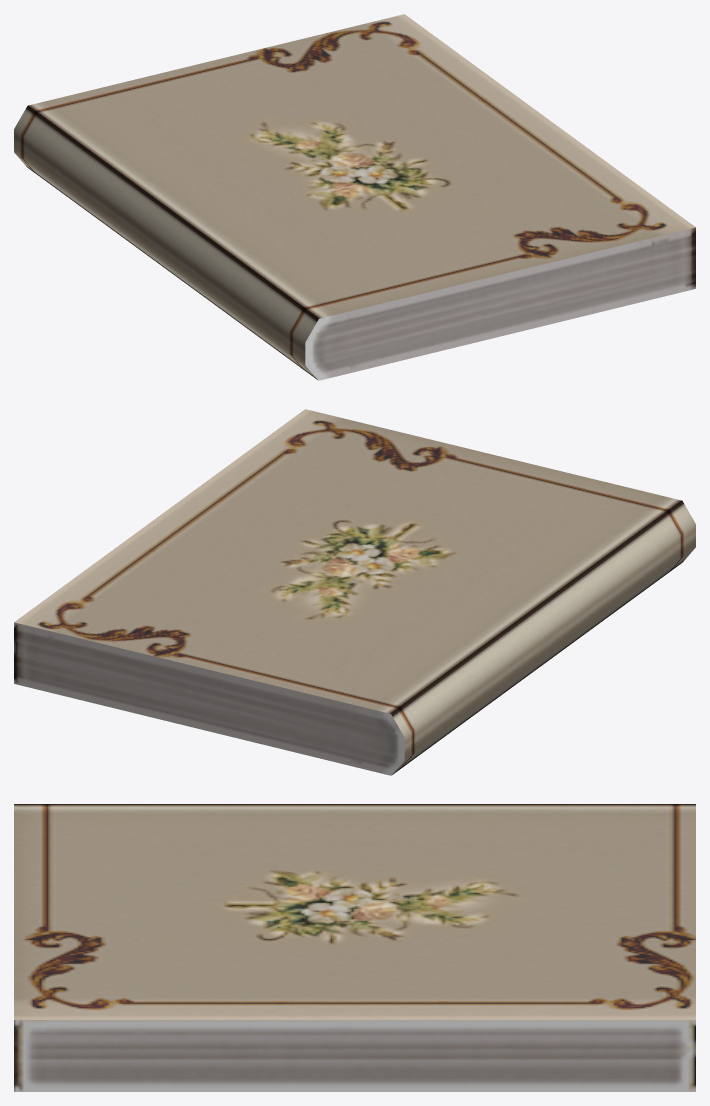
Rendered from Book01A.FBX.
The picture shows the model from 3 angles, top to bottom: view 1: azimuth 30°, elevation 25°; view 2: azimuth 150°, elevation 25°; view 3: azimuth 270°, elevation 25°; orthographic projection. The views are drawn at different scales.
Visible parts, largest first — view 1: Book01A; view 2: Book01A; view 3: Book01A.
Boxes of the visible parts, x1,y1,x2,y2 form: Book01A: (14,14,695,380); Book01A: (14,409,695,775); Book01A: (14,804,695,1091).
Bounding box in the file's own units: 29.76 × 38.44 × 4.51.
